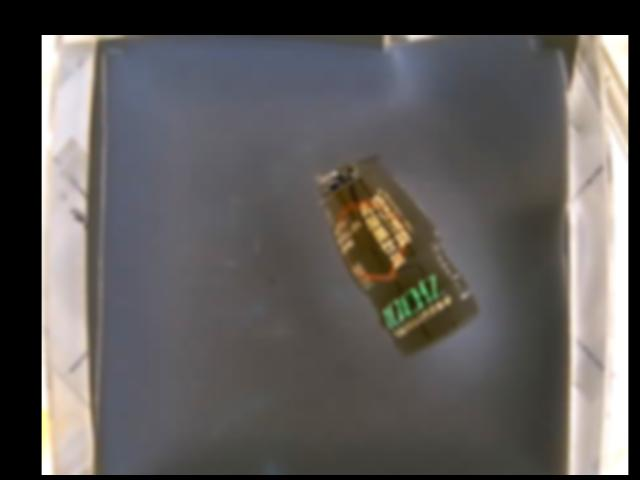Bottle: (312, 157, 480, 360)
